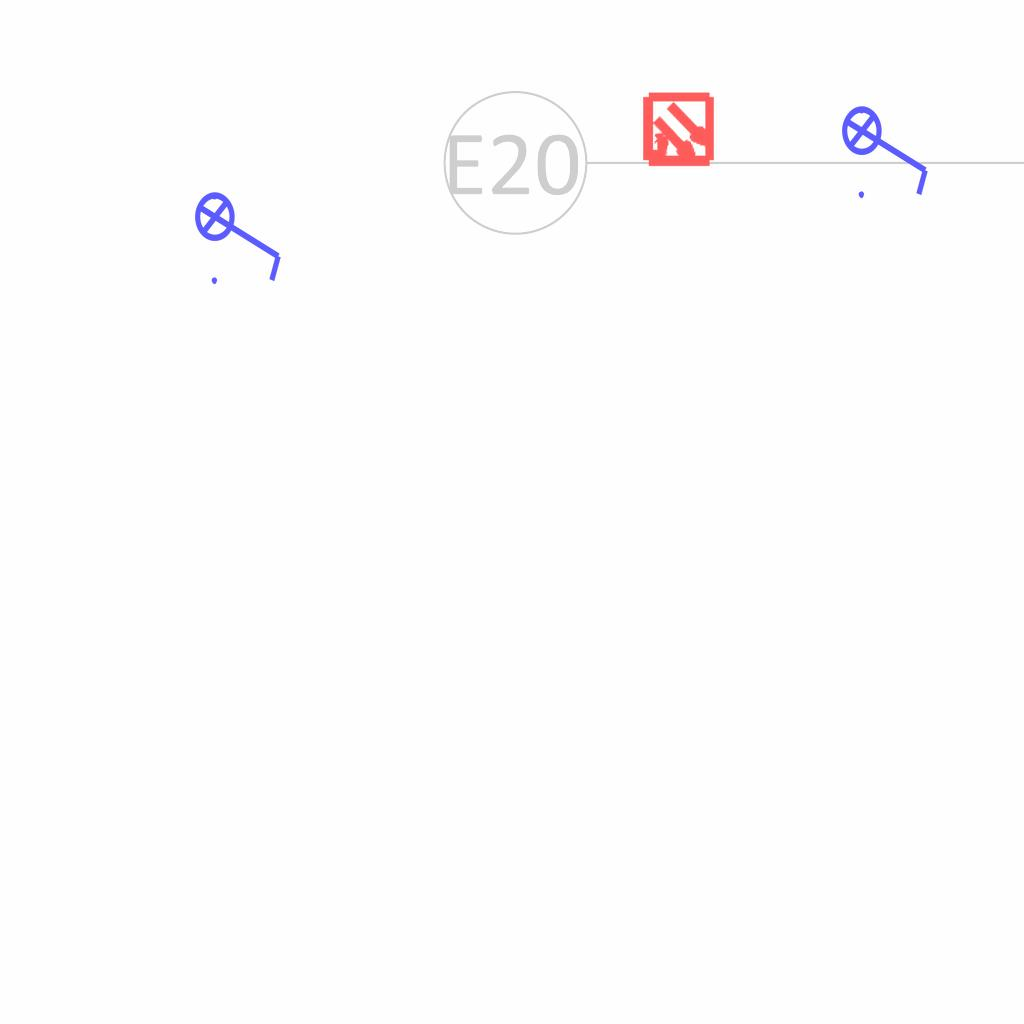Ausschalter_beleuchtet: (840, 92, 936, 204), (193, 178, 289, 290)
OT_Multisensormelder_(Kombination_RMO_WMD): (622, 75, 735, 188)
